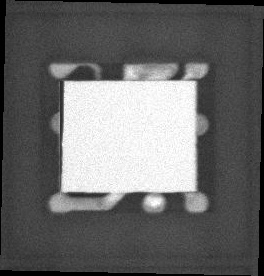DIE_BROKEN: (56, 77, 65, 186)
